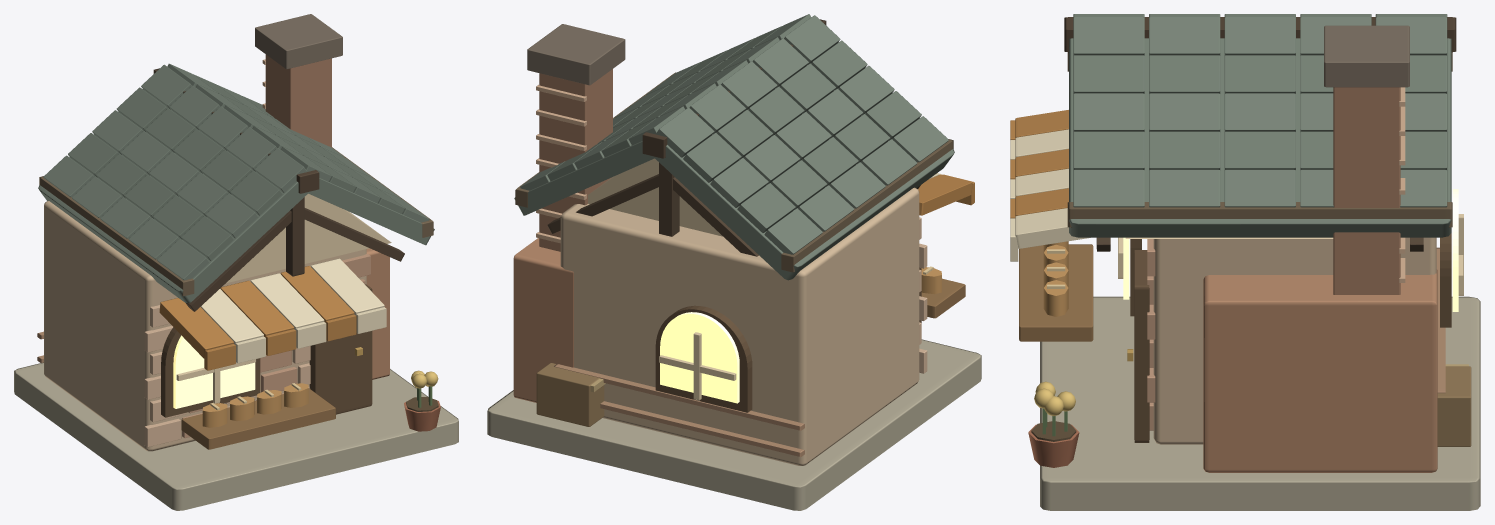
Rendered from bakery-2.glb.
3 renders of one model, left to right at view 1: azimuth 30°, elevation 25°; view 2: azimuth 150°, elevation 25°; view 3: azimuth 270°, elevation 25°, orthographic. The views are drawn at different scales.
Parts seen in each view (by area): view 1: bakery-2-0; view 2: bakery-2-0; view 3: bakery-2-0.
Part boxes in pixels (x1,y1,x2,y2): bakery-2-0: [14, 14, 458, 510]; bakery-2-0: [487, 14, 981, 510]; bakery-2-0: [1010, 14, 1480, 510].
Bounding box in the file's own units: 1.9 × 2.1 × 2.03.
